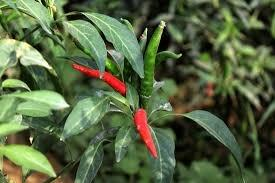Buah Cabai Sehat: (141, 19, 167, 102), (70, 58, 129, 94), (129, 107, 160, 158)
